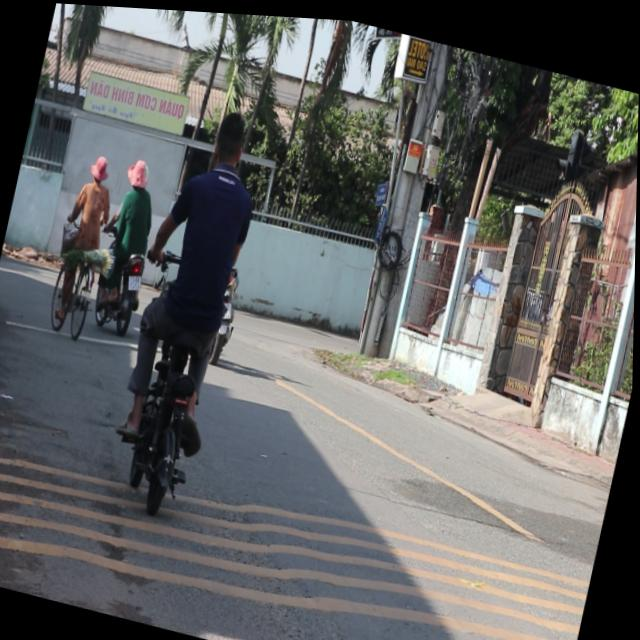licenseplate: (101, 91, 282, 522)
motorcyclist: (210, 104, 254, 172)
